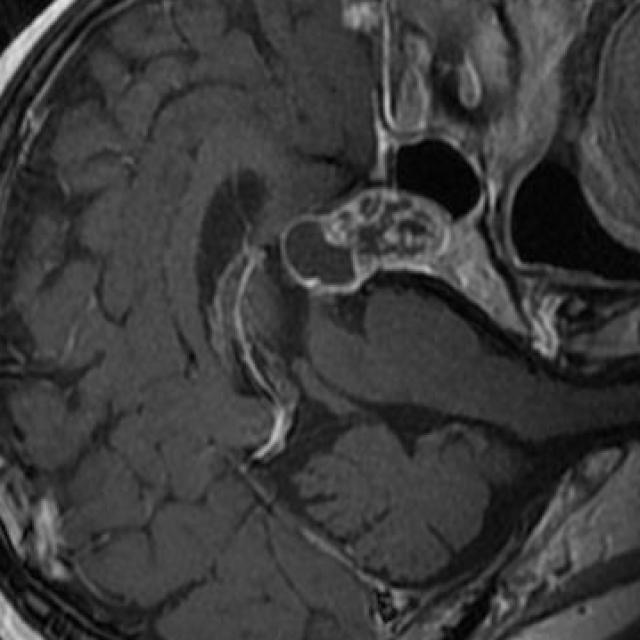pituitary: (285, 189, 453, 289)
